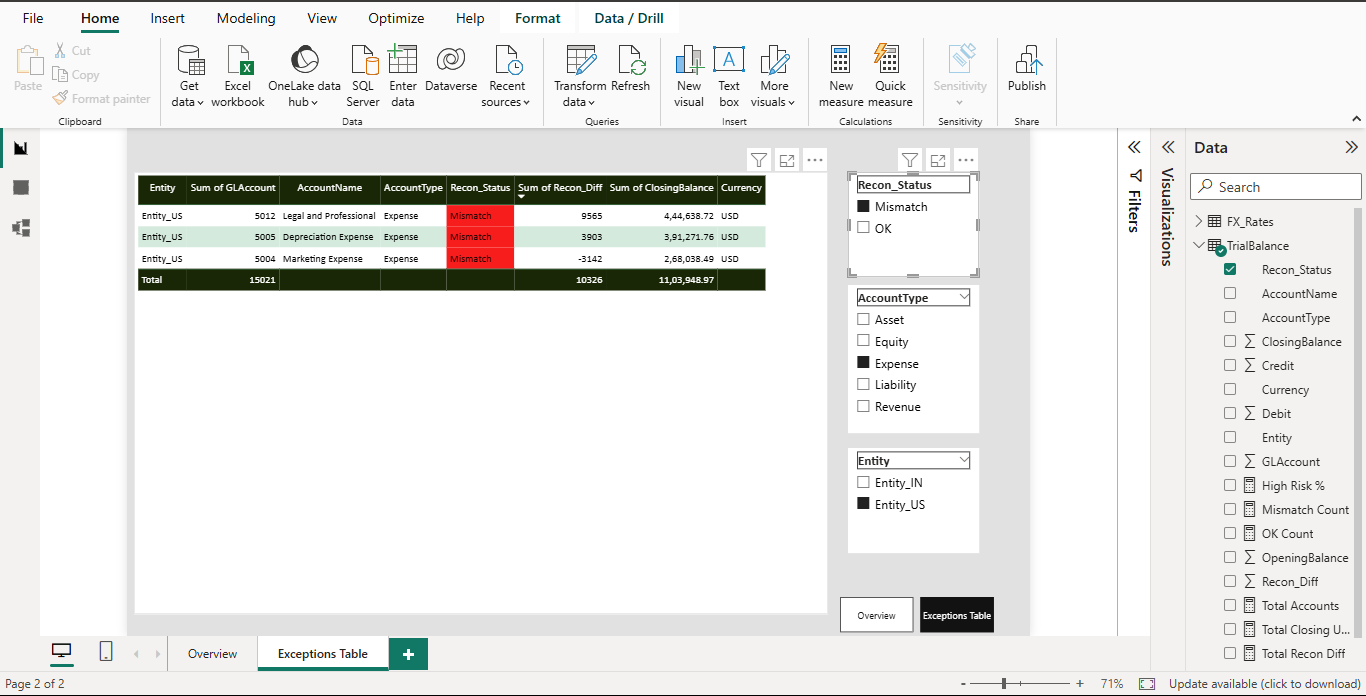

This screenshot's page, from the dashboard's own definition file:
{"tool":"powerbi","page":{"name":"Exceptions Table","canvas":[1280,720],"ordinal":1},"visuals":[{"type":"tableEx","fields":{"Values":["TrialBalance.Entity","Sum(TrialBalance.GLAccount)","TrialBalance.AccountName","TrialBalance.AccountType","TrialBalance. Recon_Status","Sum(TrialBalance.Recon_Diff)","Sum(TrialBalance.ClosingBalance)","TrialBalance.Currency"]},"box":[10.1,62.1,983.1,627.4],"z":0},{"type":"slicer","fields":{"Values":["TrialBalance. Recon_Status"]},"box":[1021.7,62.1,186.2,149.3],"z":1},{"type":"slicer","fields":{"Values":["TrialBalance.AccountType"]},"box":[1021.7,223.1,186.2,209.7],"z":2},{"type":"slicer","fields":{"Values":["TrialBalance.Entity"]},"box":[1021.7,452.9,186.2,149.3],"z":3},{"type":"pageNavigator","box":[1009.9,664.3,219.8,50.3],"z":4}]}

Visuals, with their boxes on the page's 1280x720 design canvas (x1, y1, x2, y2). These are canvas units, not pixel positions in the 1366x696 screenshot, which may show the page scaled, cropped or inside an application window:
tableEx - TrialBalance.Entity x Sum(TrialBalance.GLAccount): select_region(10, 62, 993, 690)
slicer - TrialBalance. Recon_Status: select_region(1022, 62, 1208, 211)
slicer - TrialBalance.AccountType: select_region(1022, 223, 1208, 433)
slicer - TrialBalance.Entity: select_region(1022, 453, 1208, 602)
pageNavigator: select_region(1010, 664, 1230, 715)
